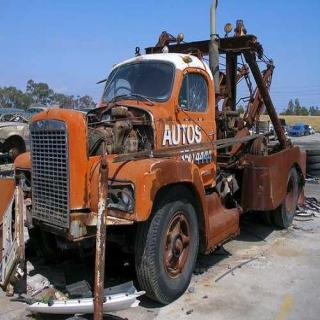Towing_truck: (24, 5, 308, 306)
